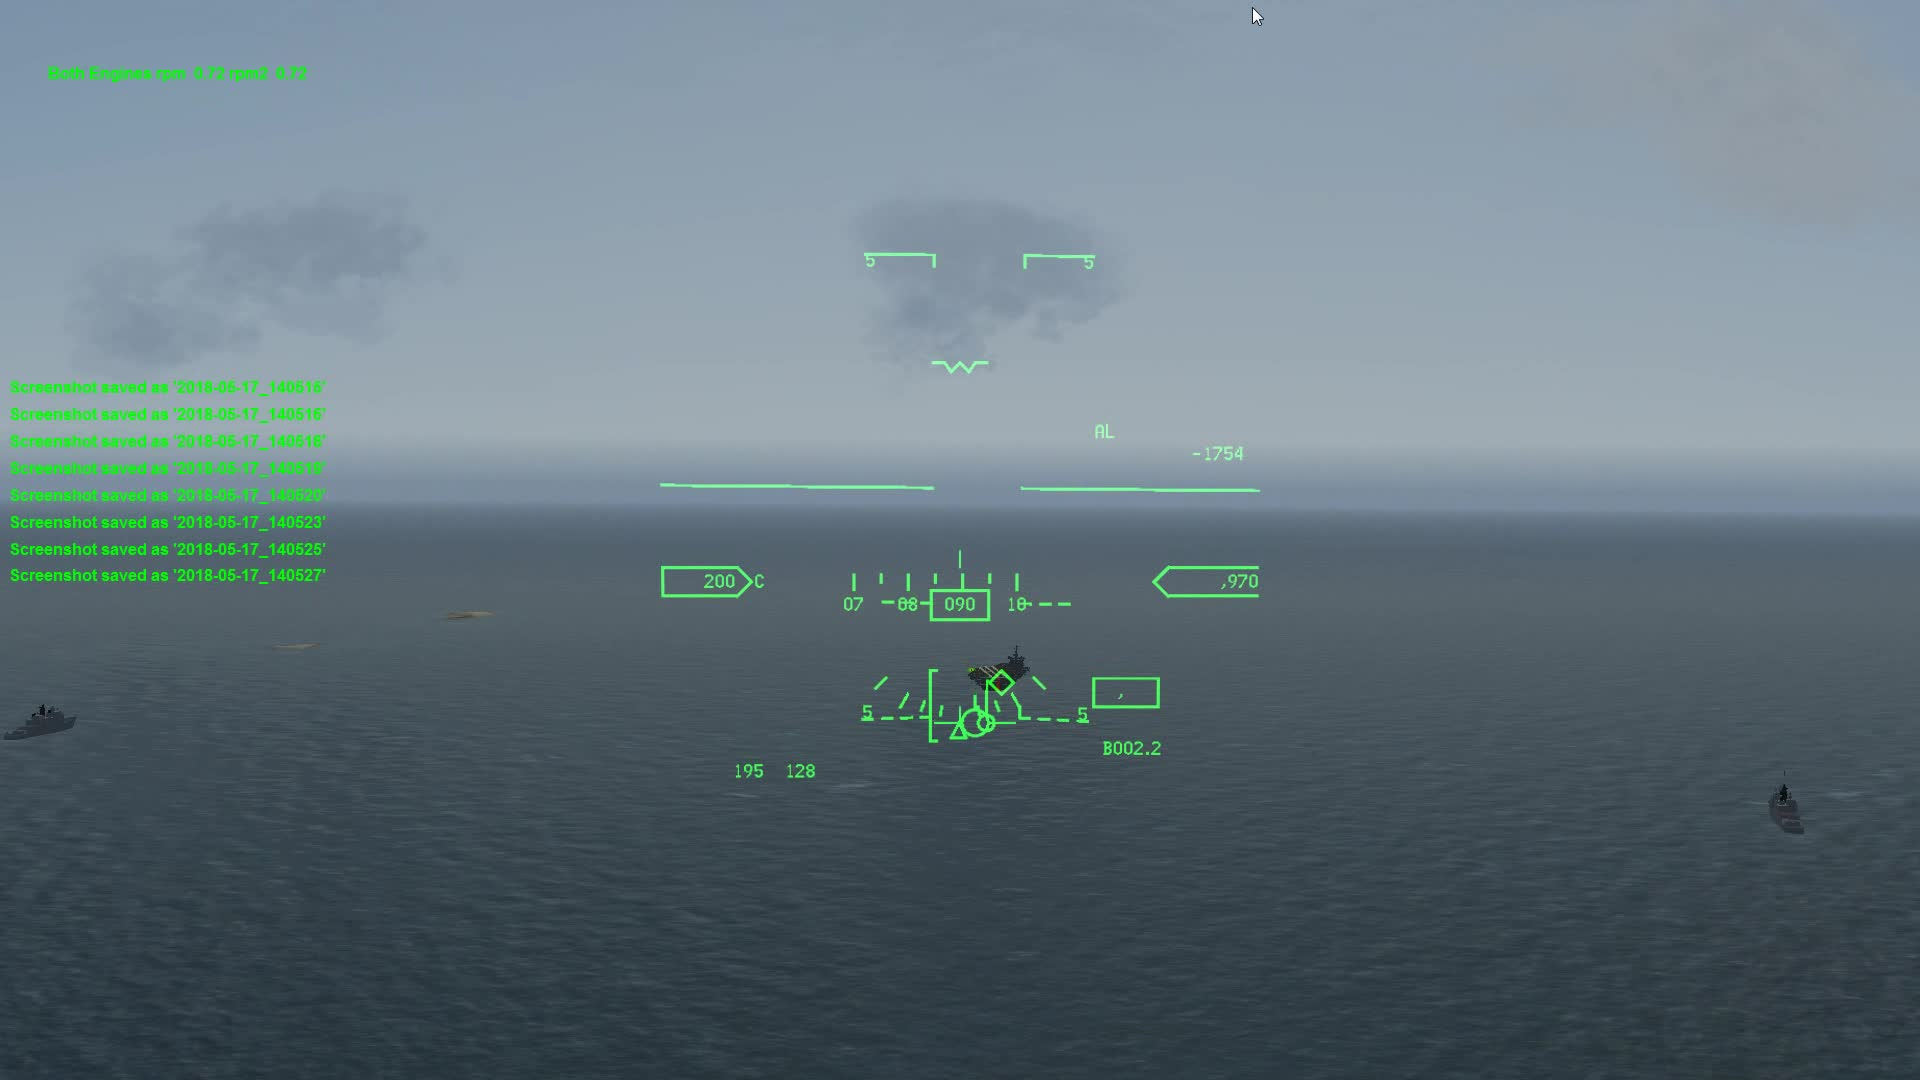speed vector: (927, 686, 1022, 742)
